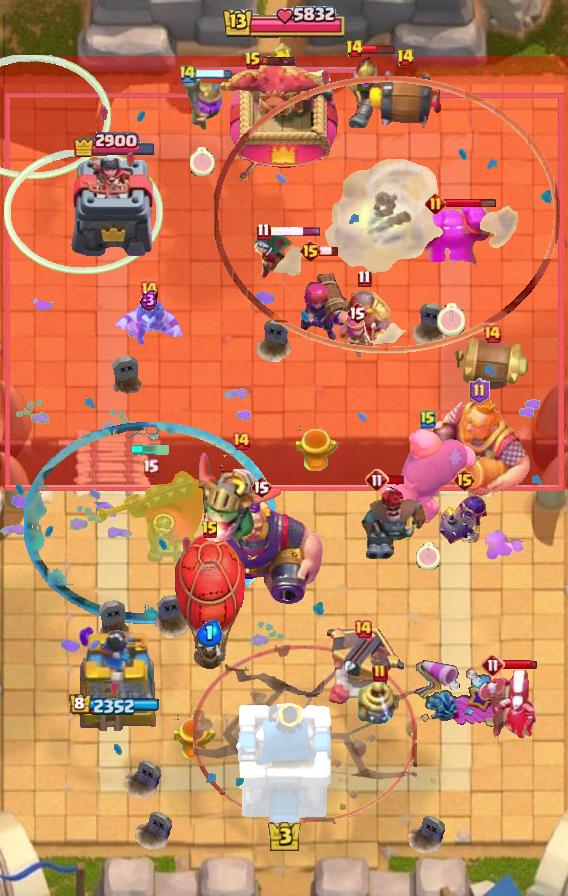balloon: (377, 427, 479, 527)
bomb-tower: (344, 54, 386, 128), (180, 77, 224, 131)
cannon: (337, 316, 377, 360)
cannon-cart: (174, 533, 246, 673)
clock: (221, 3, 347, 43)
clone: (408, 203, 494, 289)
electro-spirit: (197, 620, 223, 647), (140, 289, 158, 311)
elixir: (437, 304, 465, 336), (190, 148, 215, 177), (416, 542, 440, 570)
emote: (444, 199, 497, 210), (270, 227, 323, 238), (260, 55, 297, 67), (196, 68, 233, 80), (360, 43, 396, 55), (502, 659, 538, 671), (319, 245, 339, 257), (386, 474, 406, 486)
firecracker: (337, 289, 391, 345)
giant-skeleton: (426, 396, 532, 498)
goblin-ball: (437, 493, 491, 549)
goblin-drill: (356, 680, 404, 728)
guard: (193, 644, 417, 823)
ice-spirit: (130, 445, 170, 455)
inferno-tower: (94, 466, 206, 580)
king-tower: (230, 43, 338, 181), (235, 703, 333, 826)
lava-pup: (322, 628, 404, 708)
lightning: (198, 500, 324, 606)
lumberjack: (111, 296, 187, 350)
mega-minion: (298, 256, 352, 344)
mother-witch: (211, 57, 325, 123)
night-witch: (197, 449, 285, 545)
pad_0: (24, 421, 276, 625)
phoenix-small: (359, 484, 429, 562)
queen-tower: (64, 621, 164, 731), (68, 158, 159, 256)
rascal-boy: (476, 670, 540, 742)
royal-ghost: (212, 75, 559, 352)
selected: (71, 130, 156, 157), (68, 694, 159, 717)
tesla: (241, 228, 303, 278)
text: (365, 468, 389, 492), (481, 653, 505, 677), (299, 239, 322, 263), (452, 468, 475, 492), (469, 378, 490, 404), (346, 301, 368, 325), (250, 475, 272, 499), (426, 194, 447, 215), (178, 63, 198, 84), (139, 280, 159, 300), (482, 324, 502, 344), (231, 431, 251, 451), (353, 619, 373, 639), (344, 39, 363, 59), (397, 48, 416, 68), (244, 51, 262, 71), (201, 520, 219, 540), (142, 458, 159, 477), (420, 409, 436, 429), (372, 663, 388, 683), (257, 223, 272, 242), (357, 269, 371, 287)
the-log: (365, 69, 445, 129), (452, 337, 532, 391)
